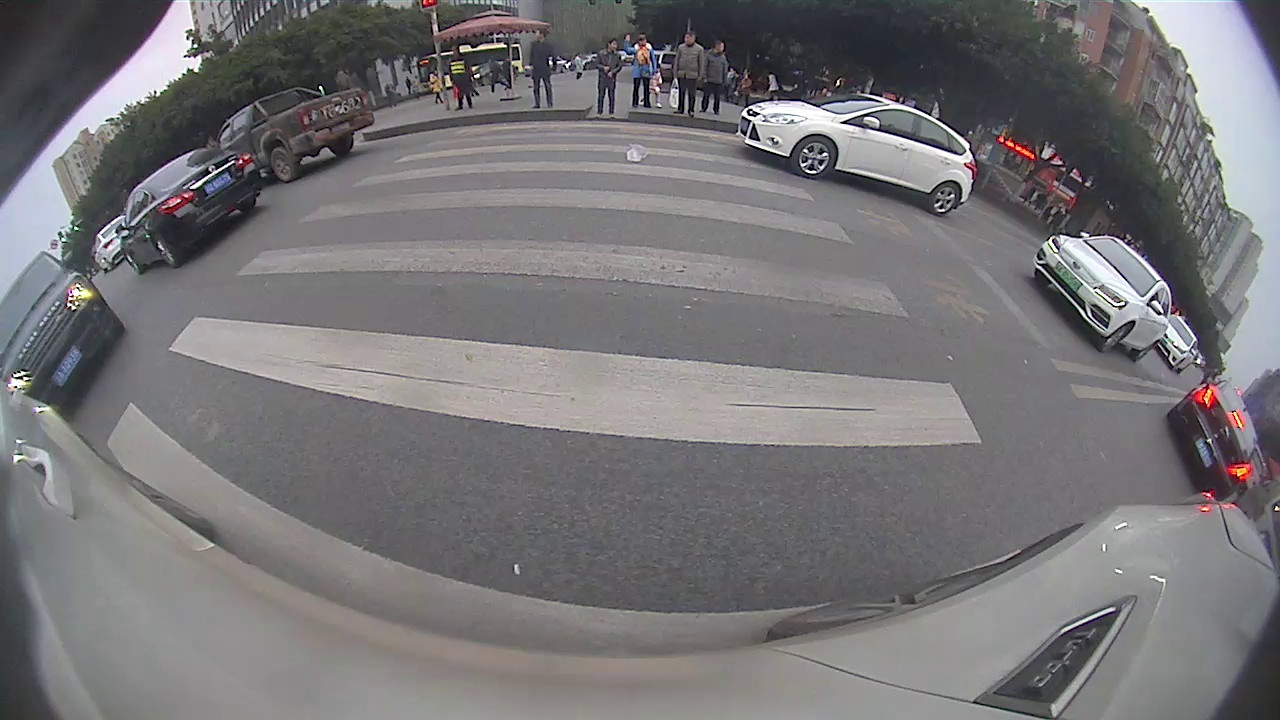car: (736, 90, 978, 216), (2, 249, 127, 413), (121, 145, 266, 275), (1033, 229, 1173, 362), (218, 85, 377, 185), (1167, 376, 1260, 498)
front: (793, 138, 838, 180), (1104, 323, 1136, 356)
person: (534, 28, 556, 110), (683, 30, 703, 119), (599, 38, 620, 115)
rear: (149, 233, 179, 271), (931, 182, 960, 216), (270, 147, 298, 182)
